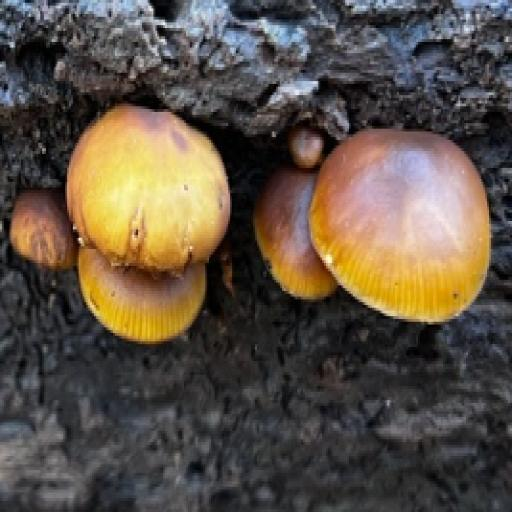mushroom: (11, 94, 238, 356), (246, 111, 494, 334)
